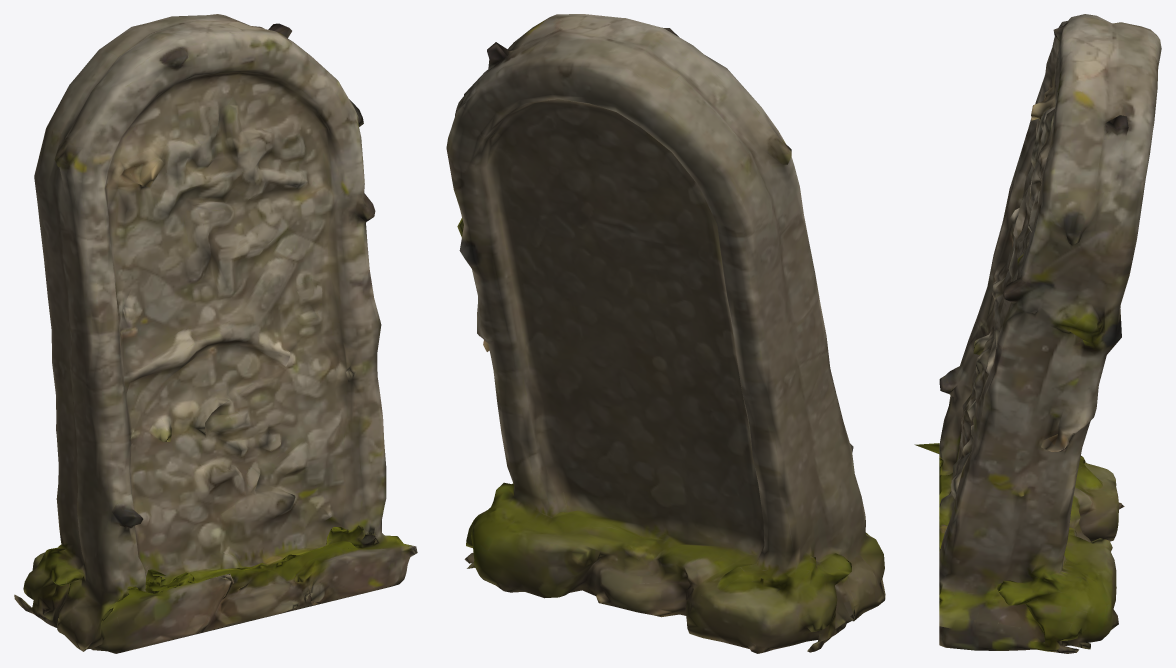
The model's file is milestone.obj.
The picture shows the model from 3 angles, left to right: view 1: azimuth 30°, elevation 25°; view 2: azimuth 150°, elevation 25°; view 3: azimuth 270°, elevation 25°; orthographic projection. The views are drawn at different scales.
Visible parts, largest first — view 1: milestone; view 2: milestone; view 3: milestone.
Part boxes in pixels (x1=…): milestone: x1=14, y1=14, x2=417, y2=653; milestone: x1=446, y1=14, x2=885, y2=653; milestone: x1=914, y1=14, x2=1161, y2=653.
Size of the model in its own units: 0.5928 by 0.9 by 0.3693.
1 material, 1 textured.
